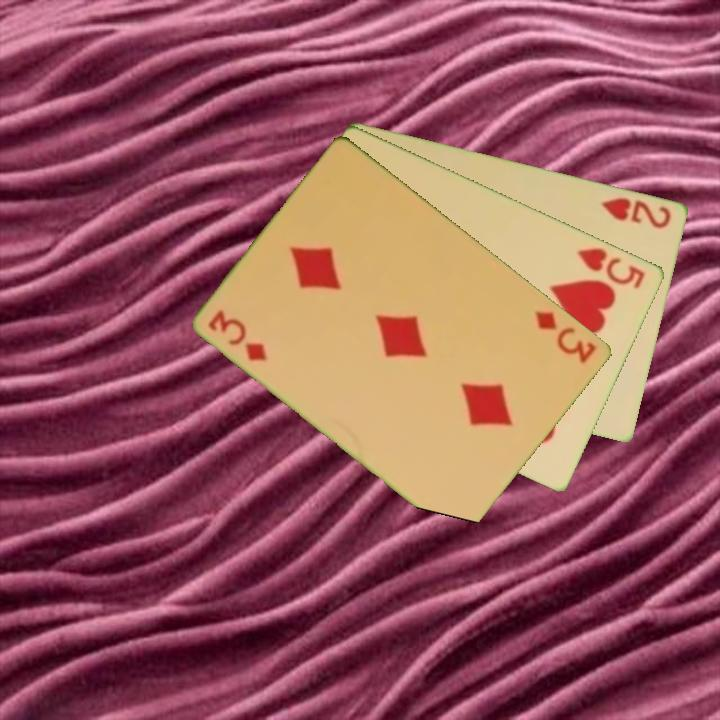2h: (598, 194, 675, 231)
3d: (531, 307, 600, 366), (205, 305, 270, 364)
5h: (574, 243, 649, 292)
